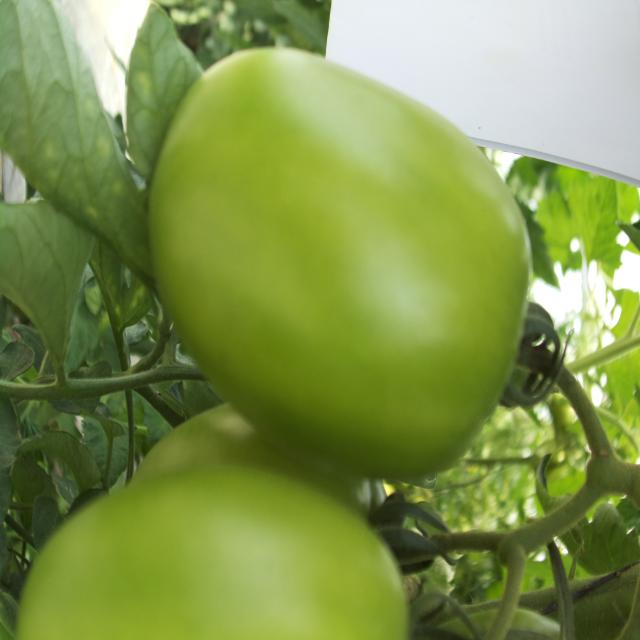yesil: (128, 59, 540, 455)
